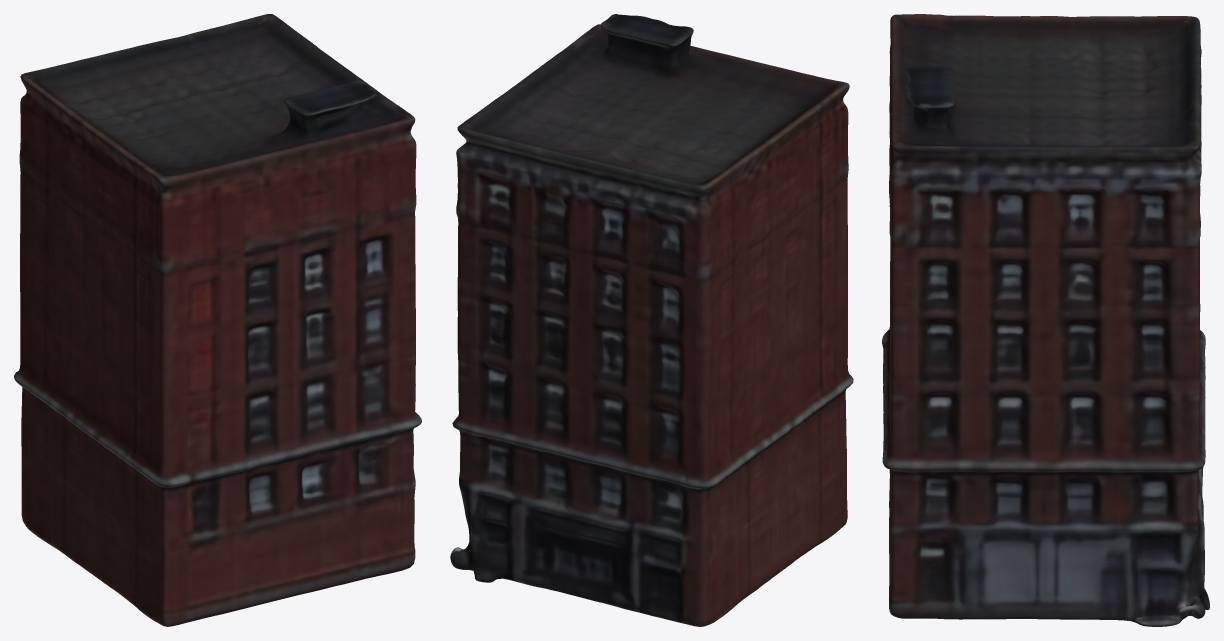
File: a2e8b36f87c2_c87bbc5af665_NYC_old_big_red_bri.glb
3 views of the same model, side by side, from view 1: azimuth 30°, elevation 25°; view 2: azimuth 150°, elevation 25°; view 3: azimuth 270°, elevation 25° (orthographic). The views are drawn at different scales.
Parts seen in each view (by area): view 1: high_poly; view 2: high_poly; view 3: high_poly.
Boxes of the visible parts, bbox=[...] form: high_poly: bbox=[14, 14, 421, 626]; high_poly: bbox=[450, 14, 853, 626]; high_poly: bbox=[882, 14, 1209, 626].
Bounding box in the file's own units: 0.5877 × 1 × 0.5885.
Materials: 1 (1 with a texture image).
